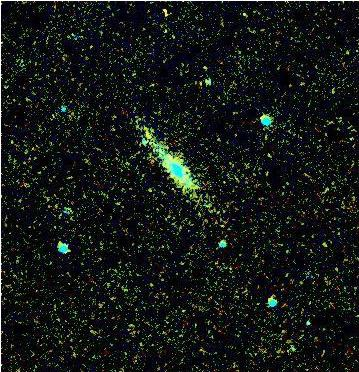star: (148, 0, 178, 26)
